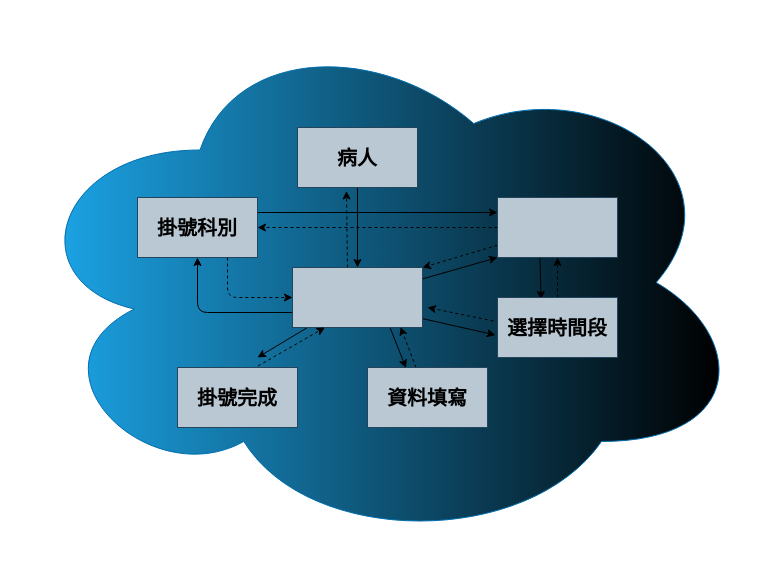
Some shapes in this 765 by 565 pixel diagram are drawn without their labels. Each missing label, with the centre of its shape:
選擇醫生: pixel 557 227
醫院掛號網站: pixel 357 297
